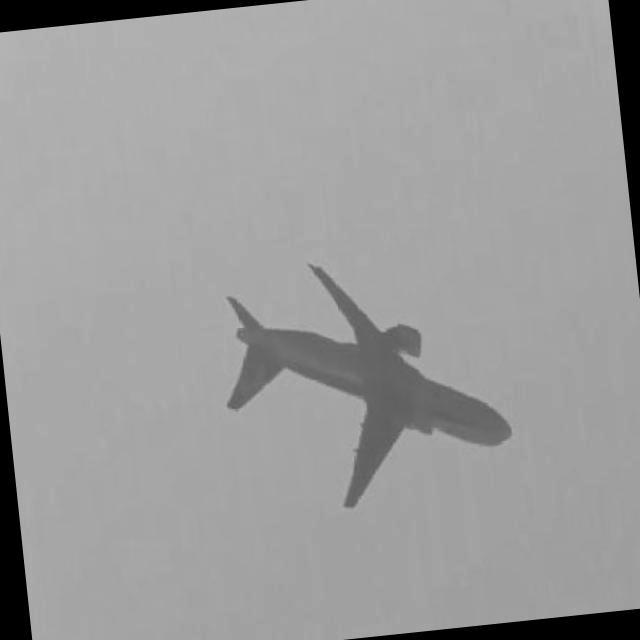aeroplane: (205, 245, 517, 523)
